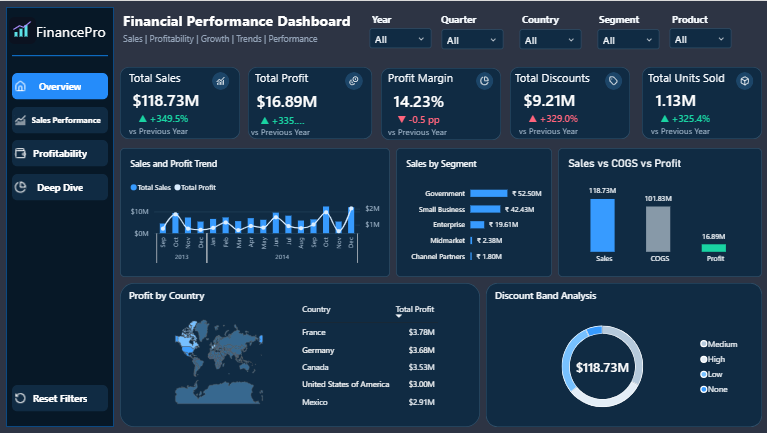

The dashboard page shown, as its layout file describes it:
{"tool":"powerbi","page":{"name":"Page 1","canvas":[1280,720],"ordinal":0},"visuals":[{"type":"shape","box":[200,110,200,120],"z":0,"group":"g6"},{"type":"shape","box":[414,110,207,120],"z":0,"group":"g7"},{"type":"shape","box":[850,110,200,120],"z":0,"group":"g9"},{"type":"shape","box":[1070,110,200,120],"z":0,"group":"g10"},{"type":"shape","box":[635,112,200,120],"z":0,"group":"g8"},{"type":"shape","box":[10,10,180,700],"z":1000},{"type":"textbox","box":[214.5,115,121.2,25],"z":1000,"group":"g6"},{"type":"textbox","box":[425.9,115,99.5,25],"z":1000,"group":"g7"},{"type":"textbox","box":[646.7,115,120.2,25],"z":1000,"group":"g8"},{"type":"textbox","box":[858.6,115,145.5,25],"z":1000,"group":"g9"},{"type":"textbox","box":[1079.7,115,140.8,25],"z":1000,"group":"g10"},{"type":"shape","box":[353.8,118,28.8,30],"z":1000,"group":"g1"},{"type":"shape","box":[575.2,118,29.9,30],"z":1000,"group":"g2"},{"type":"shape","box":[792.7,118,28.8,30],"z":1000,"group":"g3"},{"type":"shape","box":[1009,118,28.7,30],"z":1000,"group":"g4"},{"type":"shape","box":[1227.3,118,29.1,30],"z":1000,"group":"g5"},{"type":"actionButton","title":"Overview","box":[20,120,160,44],"z":2000},{"type":"cardVisual","fields":{"Data":["_Measures.Total Sales Display"]},"box":[205.8,143,169.7,42.5],"z":2000,"group":"g6"},{"type":"cardVisual","fields":{"Data":["_Measures.Discounts Display"]},"box":[856.1,143,169.7,42.5],"z":2000,"group":"g9"},{"type":"cardVisual","fields":{"Data":["_Measures.Units Sold Display"]},"box":[1076.1,143,169.7,42.5],"z":2000,"group":"g10"},{"type":"cardVisual","fields":{"Data":["_Measures.Profit Display"]},"box":[412,145,139.3,42.5],"z":2000,"group":"g7"},{"type":"cardVisual","fields":{"Data":["_Measures.Profit Margin Display"]},"box":[640,145,134.6,42.5],"z":2000,"group":"g8"},{"type":"image","box":[360.5,125,15.4,16],"z":3000,"group":"g1"},{"type":"image","box":[582.2,125,15.9,16],"z":3000,"group":"g2"},{"type":"image","box":[799.4,125,15.4,16],"z":3000,"group":"g3"},{"type":"image","box":[1015.7,125,15.3,16],"z":3000,"group":"g4"},{"type":"image","box":[1234.1,125,15.5,16],"z":3000,"group":"g5"},{"type":"actionButton","title":"Overview","box":[20,176,160,44],"z":3000},{"type":"cardVisual","fields":{"Data":["_Measures.Sales Growth Display"]},"box":[214.5,184,133.3,22],"z":3000,"group":"g6"},{"type":"cardVisual","fields":{"Data":["_Measures.Discounts Growth Display"]},"box":[864.5,184,133.3,22],"z":3000,"group":"g9"},{"type":"cardVisual","fields":{"Data":["_Measures.Units Growth Display"]},"box":[1084.5,184,133.3,22],"z":3000,"group":"g10"},{"type":"cardVisual","fields":{"Data":["_Measures.Profit Growth Display"]},"box":[419,186,109.5,22],"z":3000,"group":"g7"},{"type":"cardVisual","fields":{"Data":["_Measures.Profit Margin Change Display"]},"box":[646.7,186,105.8,22],"z":3000,"group":"g8"},{"type":"textbox","box":[214.5,207,151.5,20],"z":4000,"group":"g6"},{"type":"textbox","box":[864.5,207,151.5,20],"z":4000,"group":"g9"},{"type":"textbox","box":[1084.5,207,151.5,20],"z":4000,"group":"g10"},{"type":"textbox","box":[419,209,124.4,20],"z":4000,"group":"g7"},{"type":"textbox","box":[646.7,209,120.2,20],"z":4000,"group":"g8"},{"type":"actionButton","title":"Overview","box":[20,232,160,44],"z":4000},{"type":"group","id":"g1","title":"Group 1","box":[353.8,118,28.8,30],"z":5000,"group":"g6"},{"type":"group","id":"g2","title":"Group 1","box":[575.2,118,29.9,30],"z":5000,"group":"g7"},{"type":"group","id":"g3","title":"Group 1","box":[792.7,118,28.8,30],"z":5000,"group":"g8"},{"type":"group","id":"g4","title":"Group 1","box":[1009,118,28.7,30],"z":5000,"group":"g9"},{"type":"group","id":"g5","title":"Group 1","box":[1227.3,118,29.1,30],"z":5000,"group":"g10"},{"type":"actionButton","title":"Overview","box":[20,288,160,44],"z":5000},{"type":"actionButton","title":"Overview","box":[20,640,160,44],"z":6000},{"type":"image","box":[15,27,45,45],"z":7000},{"type":"textbox","box":[60,33,126,36],"z":8000},{"type":"shape","box":[20,85,160,12],"z":9000},{"type":"textbox","box":[205,15,400,40],"z":10000},{"type":"textbox","box":[205,52,335,20],"z":11000},{"type":"listSlicer","fields":{"Values":["DimDate.Year"]},"box":[600,32,135,50],"z":12000},{"type":"textbox","box":[620,20,50,25],"z":13000},{"type":"listSlicer","fields":{"Values":["DimDate.Quarter"]},"box":[720,32.6,135,50],"z":14000},{"type":"listSlicer","fields":{"Values":["FactFinancials.Country"]},"box":[850,32.6,135,50],"z":15000},{"type":"listSlicer","fields":{"Values":["FactFinancials.Segment"]},"box":[980,32.6,135,50],"z":16000},{"type":"textbox","box":[735,20,100,25],"z":17000},{"type":"textbox","box":[870,20,100,25],"z":18000},{"type":"textbox","box":[999,20,100,25],"z":19000},{"type":"listSlicer","fields":{"Values":["FactFinancials.Product"]},"box":[1100,32,135,50],"z":20000},{"type":"textbox","box":[1120,20,100,25],"z":21000},{"type":"group","id":"g6","title":"Group 2","box":[200,110,200,120],"z":22000},{"type":"group","id":"g7","title":"Group 2","box":[412,110,209,120],"z":23000},{"type":"group","id":"g8","title":"Group 2","box":[635,112,200,120],"z":24000},{"type":"group","id":"g9","title":"Group 2","box":[850,110,200,120],"z":25000},{"type":"group","id":"g10","title":"Group 2","box":[1070,110,200,120],"z":26000},{"type":"lineClusteredColumnComboChart","title":"Sales and Profit Trend","fields":{"Category":["DimDate.Year","DimDate.Month Short"],"Y":["_Measures.Total Sales"],"Y2":["_Measures.Total Profit"]},"box":[200,245,450,215],"z":27000},{"type":"clusteredBarChart","title":"Sales by Segment","fields":{"Category":["FactFinancials.Segment"],"Y":["_Measures.Total Sales"]},"box":[660,245,260,215],"z":28000},{"type":"clusteredColumnChart","title":"Sales vs COGS vs Profit","fields":{"Category":["Financial Metrics.Metric"],"Y":["_Measures.Financial Metric Value"]},"box":[930,245,340,215],"z":28001},{"type":"shape","box":[200,470,600,240],"z":28002},{"type":"textbox","box":[215,480,200,24],"z":28003},{"type":"shapeMap","fields":{"Category":["FactFinancials.Country"],"Value":["_Measures.Total Profit"]},"box":[215,510,300,185],"z":28004},{"type":"tableEx","fields":{"Values":["FactFinancials.Country","_Measures.Total Profit"]},"box":[481.9,485,300.5,220],"z":28005},{"type":"shape","box":[810,470,460,240],"z":28006},{"type":"textbox","box":[825,480,250,25],"z":28007},{"type":"donutChart","fields":{"Category":["FactFinancials.Discount Band"],"Y":["_Measures.Total Sales"]},"box":[825,510,430,200],"z":28008}]}

Visuals, with their boxes on the page's 1280x720 design canvas (x1, y1, x2, y2). These are canvas units, not pixel positions in the 767x433 screenshot, which may show the page scaled, cropped or inside an application window:
shape: bbox=(200, 110, 400, 230)
shape: bbox=(414, 110, 621, 230)
shape: bbox=(850, 110, 1050, 230)
shape: bbox=(1070, 110, 1270, 230)
shape: bbox=(635, 112, 835, 232)
shape: bbox=(10, 10, 190, 710)
textbox: bbox=(214, 115, 336, 140)
textbox: bbox=(426, 115, 525, 140)
textbox: bbox=(647, 115, 767, 140)
textbox: bbox=(859, 115, 1004, 140)
textbox: bbox=(1080, 115, 1220, 140)
shape: bbox=(354, 118, 383, 148)
shape: bbox=(575, 118, 605, 148)
shape: bbox=(793, 118, 822, 148)
shape: bbox=(1009, 118, 1038, 148)
shape: bbox=(1227, 118, 1256, 148)
"Overview" actionButton: bbox=(20, 120, 180, 164)
cardVisual - _Measures.Total Sales Display: bbox=(206, 143, 376, 186)
cardVisual - _Measures.Discounts Display: bbox=(856, 143, 1026, 186)
cardVisual - _Measures.Units Sold Display: bbox=(1076, 143, 1246, 186)
cardVisual - _Measures.Profit Display: bbox=(412, 145, 551, 188)
cardVisual - _Measures.Profit Margin Display: bbox=(640, 145, 775, 188)
image: bbox=(360, 125, 376, 141)
image: bbox=(582, 125, 598, 141)
image: bbox=(799, 125, 815, 141)
image: bbox=(1016, 125, 1031, 141)
image: bbox=(1234, 125, 1250, 141)
"Overview" actionButton: bbox=(20, 176, 180, 220)
cardVisual - _Measures.Sales Growth Display: bbox=(214, 184, 348, 206)
cardVisual - _Measures.Discounts Growth Display: bbox=(864, 184, 998, 206)
cardVisual - _Measures.Units Growth Display: bbox=(1084, 184, 1218, 206)
cardVisual - _Measures.Profit Growth Display: bbox=(419, 186, 528, 208)
cardVisual - _Measures.Profit Margin Change Display: bbox=(647, 186, 752, 208)
textbox: bbox=(214, 207, 366, 227)
textbox: bbox=(864, 207, 1016, 227)
textbox: bbox=(1084, 207, 1236, 227)
textbox: bbox=(419, 209, 543, 229)
textbox: bbox=(647, 209, 767, 229)
"Overview" actionButton: bbox=(20, 232, 180, 276)
"Group 1" group: bbox=(354, 118, 383, 148)
"Group 1" group: bbox=(575, 118, 605, 148)
"Group 1" group: bbox=(793, 118, 822, 148)
"Group 1" group: bbox=(1009, 118, 1038, 148)
"Group 1" group: bbox=(1227, 118, 1256, 148)
"Overview" actionButton: bbox=(20, 288, 180, 332)
"Overview" actionButton: bbox=(20, 640, 180, 684)
image: bbox=(15, 27, 60, 72)
textbox: bbox=(60, 33, 186, 69)
shape: bbox=(20, 85, 180, 97)
textbox: bbox=(205, 15, 605, 55)
textbox: bbox=(205, 52, 540, 72)
listSlicer - DimDate.Year: bbox=(600, 32, 735, 82)
textbox: bbox=(620, 20, 670, 45)
listSlicer - DimDate.Quarter: bbox=(720, 33, 855, 83)
listSlicer - FactFinancials.Country: bbox=(850, 33, 985, 83)
listSlicer - FactFinancials.Segment: bbox=(980, 33, 1115, 83)
textbox: bbox=(735, 20, 835, 45)
textbox: bbox=(870, 20, 970, 45)
textbox: bbox=(999, 20, 1099, 45)
listSlicer - FactFinancials.Product: bbox=(1100, 32, 1235, 82)
textbox: bbox=(1120, 20, 1220, 45)
"Group 2" group: bbox=(200, 110, 400, 230)
"Group 2" group: bbox=(412, 110, 621, 230)
"Group 2" group: bbox=(635, 112, 835, 232)
"Group 2" group: bbox=(850, 110, 1050, 230)
"Group 2" group: bbox=(1070, 110, 1270, 230)
"Sales and Profit Trend" lineClusteredColumnComboChart: bbox=(200, 245, 650, 460)
"Sales by Segment" clusteredBarChart: bbox=(660, 245, 920, 460)
"Sales vs COGS vs Profit" clusteredColumnChart: bbox=(930, 245, 1270, 460)
shape: bbox=(200, 470, 800, 710)
textbox: bbox=(215, 480, 415, 504)
shapeMap - FactFinancials.Country x _Measures.Total Profit: bbox=(215, 510, 515, 695)
tableEx - FactFinancials.Country x _Measures.Total Profit: bbox=(482, 485, 782, 705)
shape: bbox=(810, 470, 1270, 710)
textbox: bbox=(825, 480, 1075, 505)
donutChart - FactFinancials.Discount Band x _Measures.Total Sales: bbox=(825, 510, 1255, 710)
